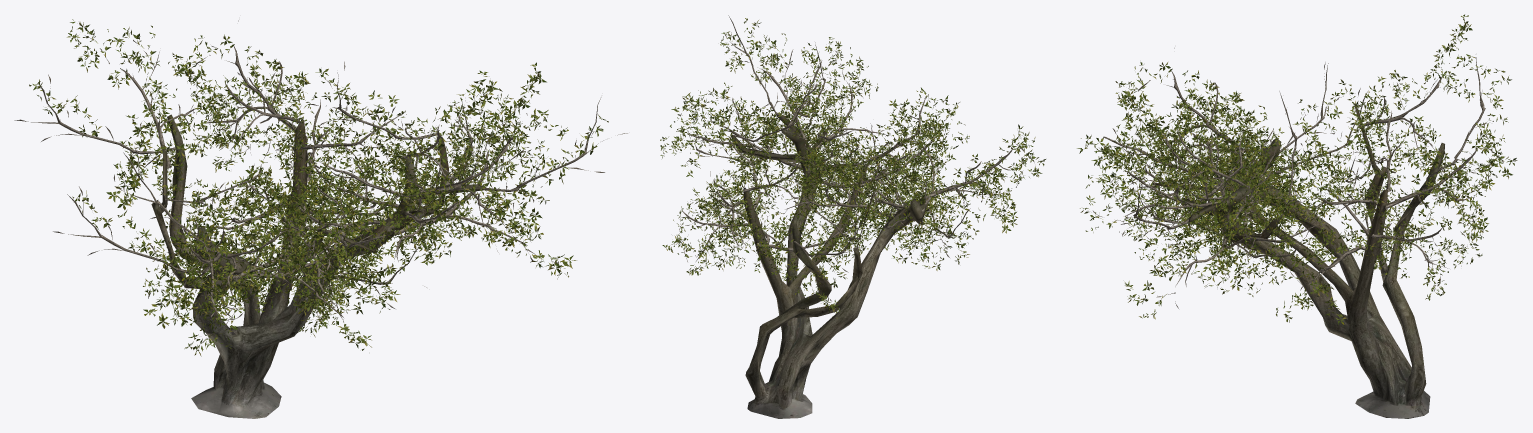
Rendered from island_tree_02.glb.
3 renders of one model, left to right at view 1: azimuth 30°, elevation 25°; view 2: azimuth 150°, elevation 25°; view 3: azimuth 270°, elevation 25°, orthographic. The views are drawn at different scales.
Visible parts, largest first — view 1: island_tree_02_LOD0; view 2: island_tree_02_LOD0; view 3: island_tree_02_LOD0.
Boxes of the visible parts, x1,y1,x2,y2 form: island_tree_02_LOD0: (14,19,627,418); island_tree_02_LOD0: (660,15,1045,418); island_tree_02_LOD0: (1077,14,1517,418).
Bounding box in the file's own units: 4.21 × 3.4 × 4.07.
Materials: 3 (3 with a texture image).
